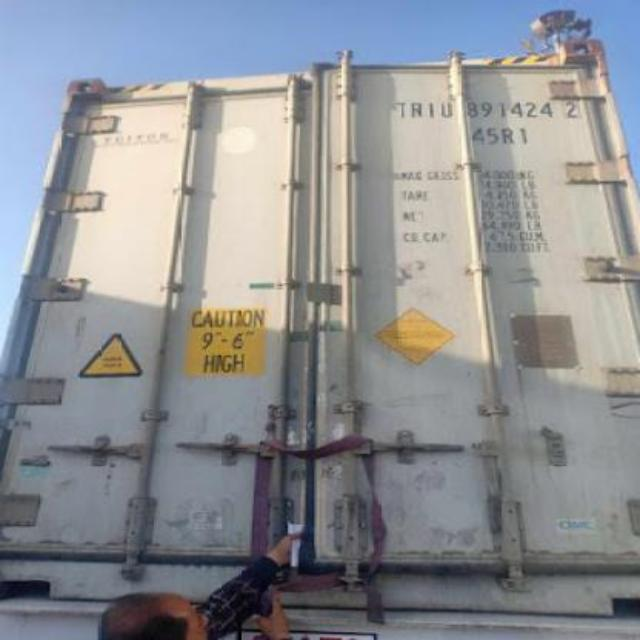1: (494, 98, 508, 120)
2: (524, 96, 538, 126), (564, 98, 580, 118)
4: (508, 95, 526, 122), (540, 92, 556, 120)
8: (464, 98, 480, 122)
9: (482, 94, 494, 124)
I: (422, 99, 440, 123)
R: (406, 98, 424, 122)
T: (390, 95, 408, 121)
U: (436, 98, 462, 120)
